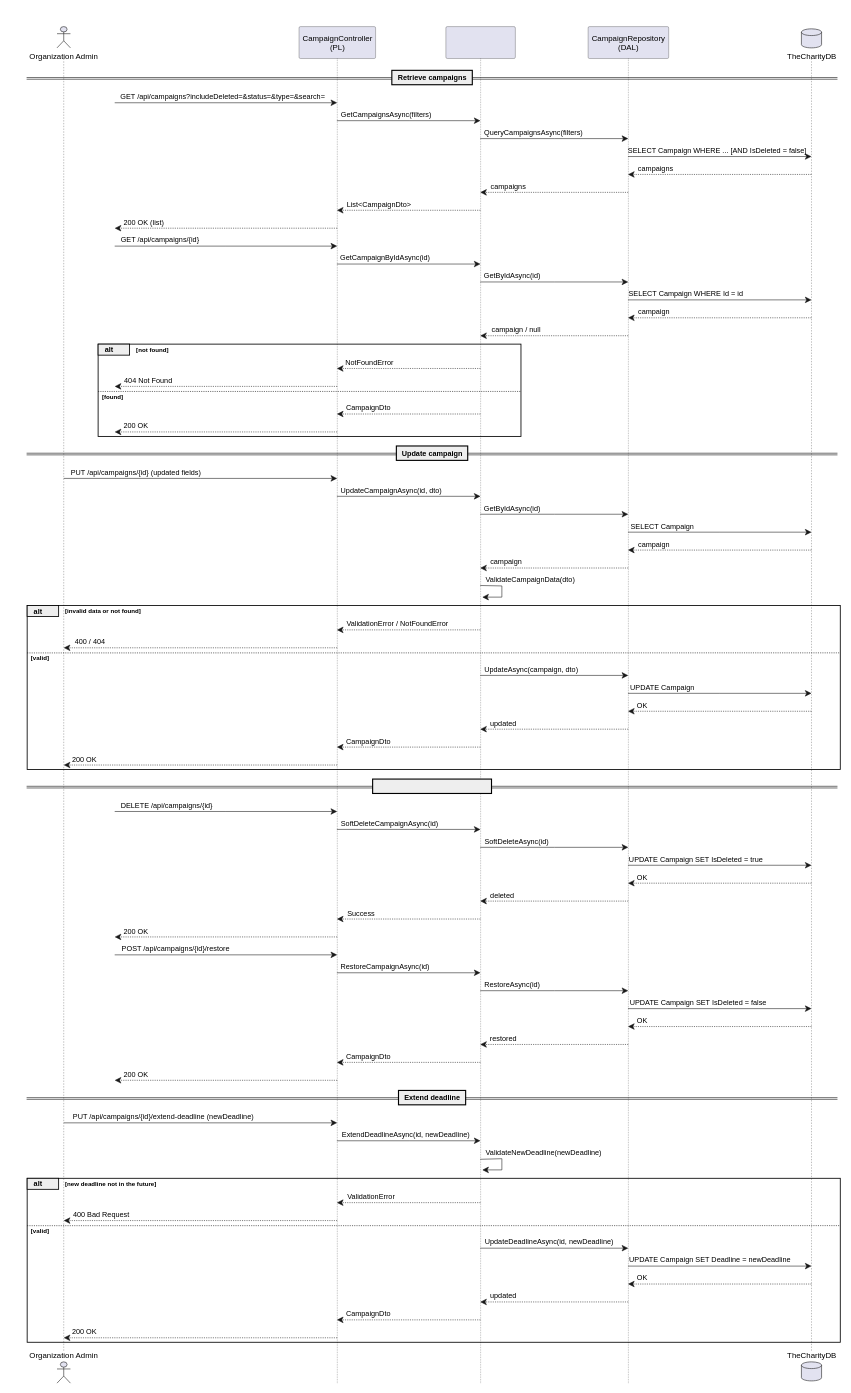
This 851x1393 diagram has some shape labels left out. The shapes that lost their labels are listed below. From the top down, each one's centre as x and y in pixels, then its label:
point (480, 704): CampaignService (BLL)
point (432, 786): Soft delete / restore campaign
